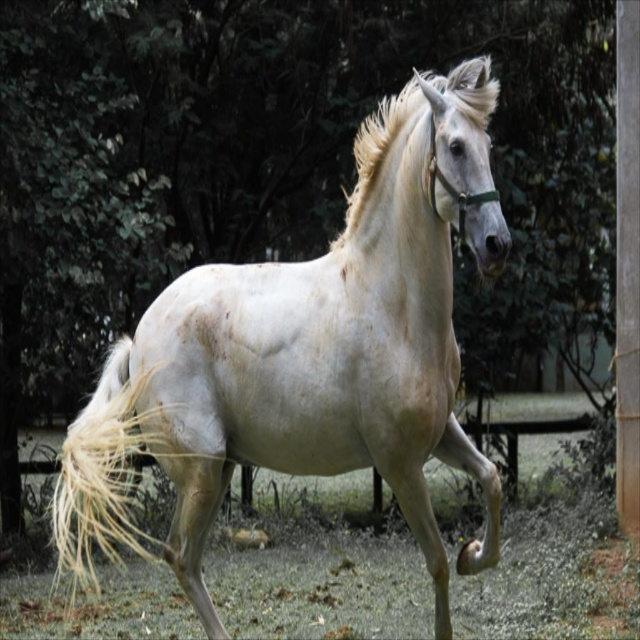Horse: (42, 52, 514, 639)
